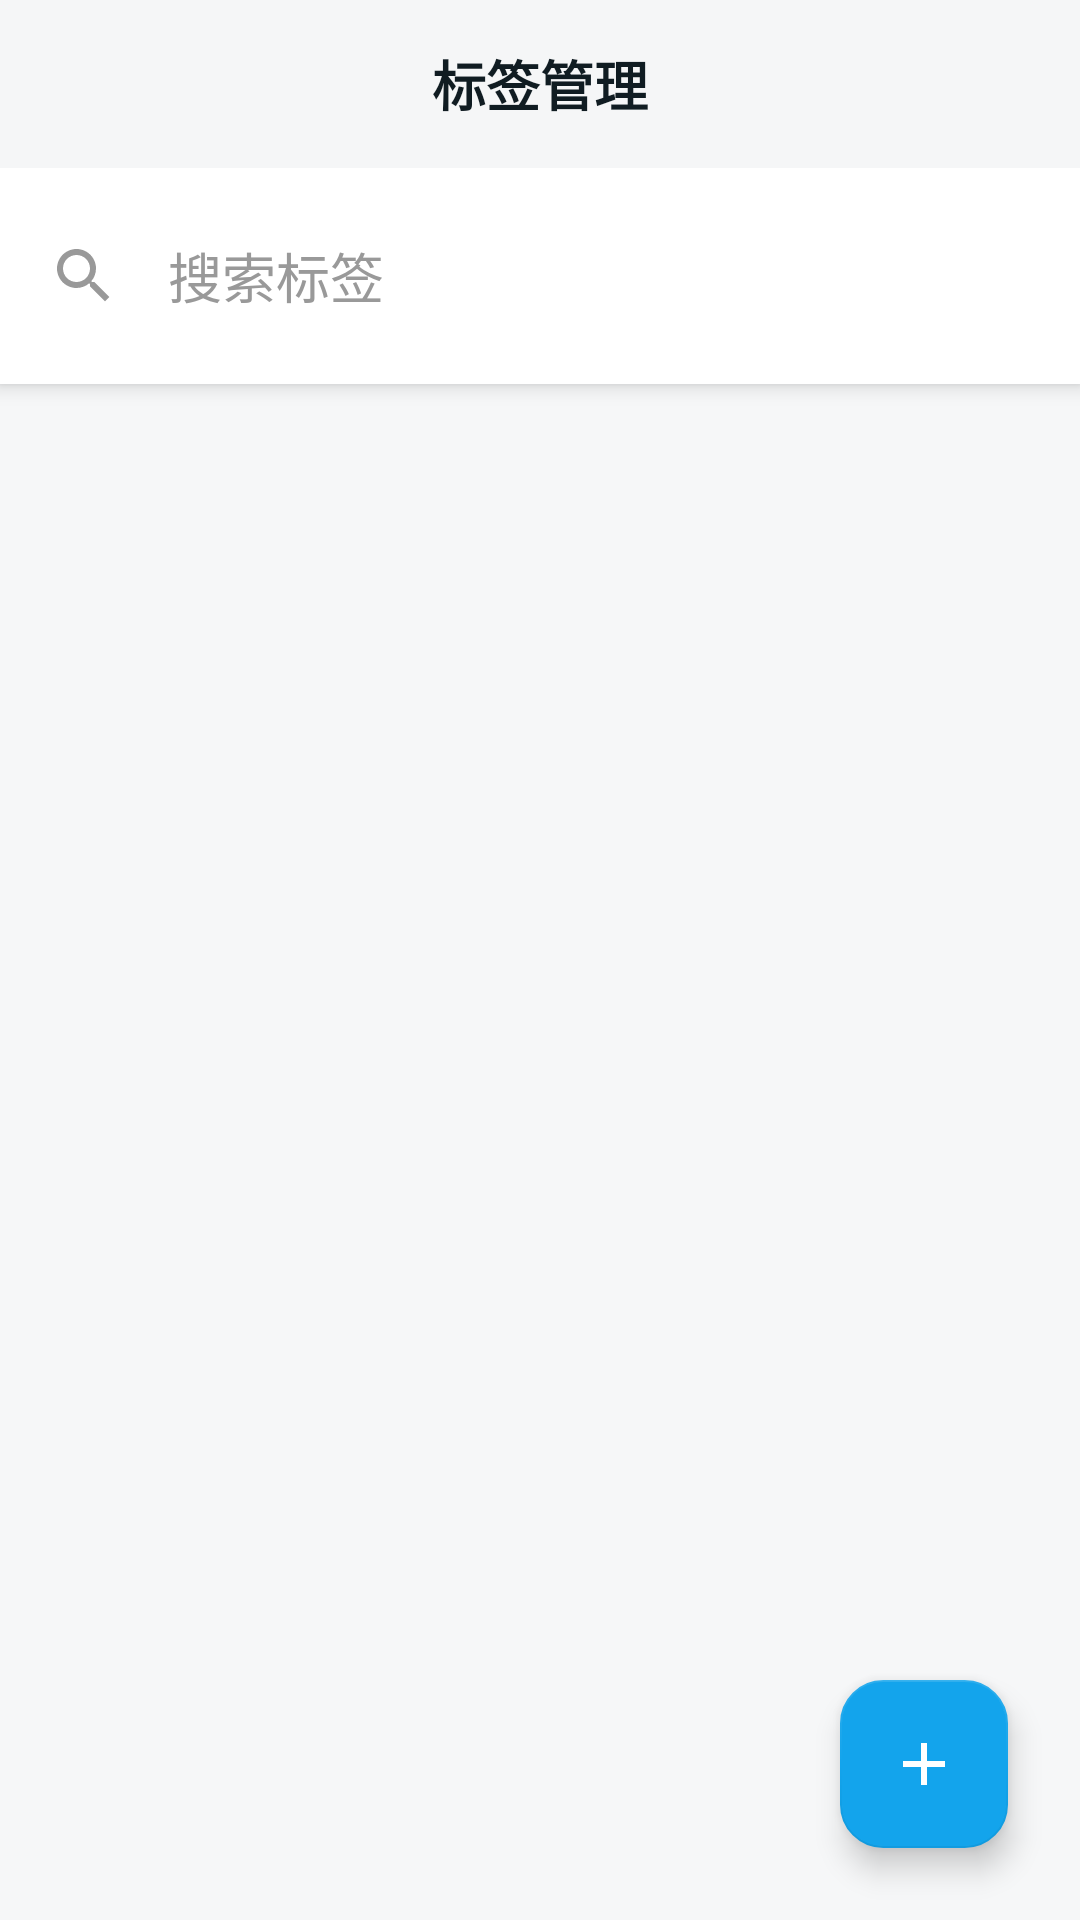

Screen size 1080 × 1920. Icon name, then its center in pixels as (x,y):
search: (83,275)
新增标签: (924,1764)
